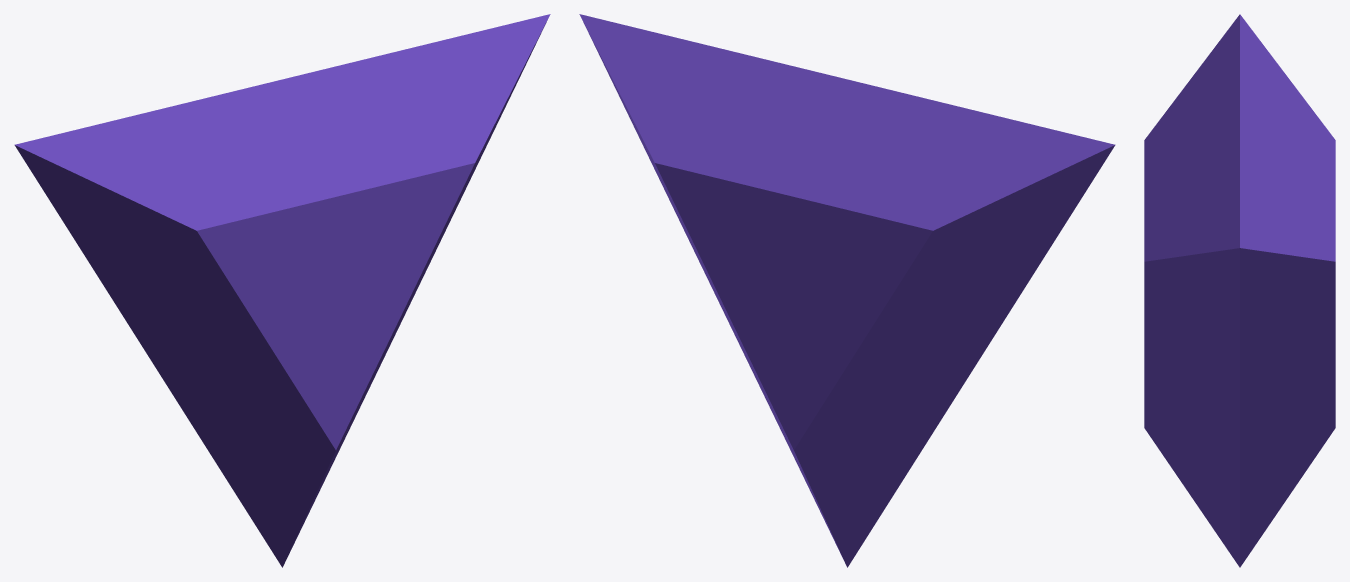
The model's file is Gem_4-1.fbx.
3 renders of one model, left to right at view 1: azimuth 30°, elevation 25°; view 2: azimuth 150°, elevation 25°; view 3: azimuth 270°, elevation 25°, orthographic. The views are drawn at different scales.
Parts seen in each view (by area): view 1: Gem_4-1; view 2: Gem_4-1; view 3: Gem_4-1.
Part boxes in pixels (x1,y1,x2,y2): Gem_4-1: (14, 14, 550, 567); Gem_4-1: (579, 14, 1115, 567); Gem_4-1: (1144, 14, 1335, 567).
Size of the model in its own units: 73.73 by 64.19 by 25.49.
